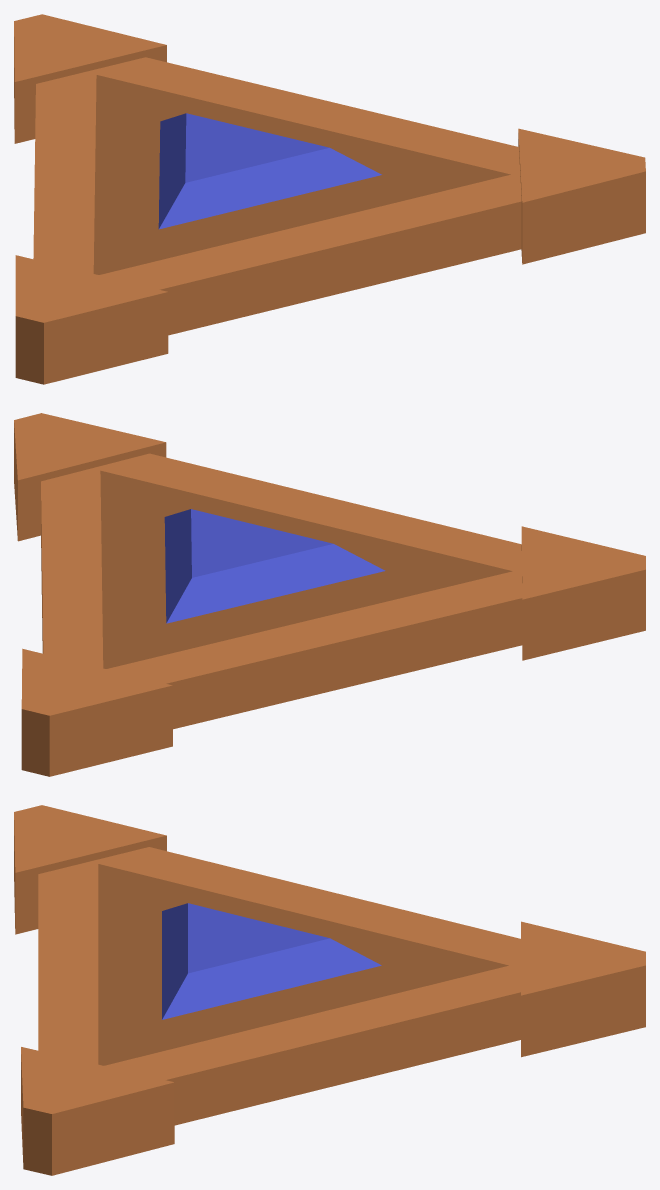
File: Artifact_01_Triangle.fbx
3 views of the same model, one above another, from view 1: azimuth 30°, elevation 25°; view 2: azimuth 150°, elevation 25°; view 3: azimuth 270°, elevation 25° (orthographic).
Parts seen in each view (by area): view 1: Artifact_01_Triangle; view 2: Artifact_01_Triangle; view 3: Artifact_01_Triangle.
Part boxes in pixels (x1,y1,x2,y2): Artifact_01_Triangle: [14, 14, 645, 384]; Artifact_01_Triangle: [14, 413, 645, 776]; Artifact_01_Triangle: [14, 805, 645, 1175].
Size of the model in its own units: 0.1118 by 0.0138 by 0.0966.
